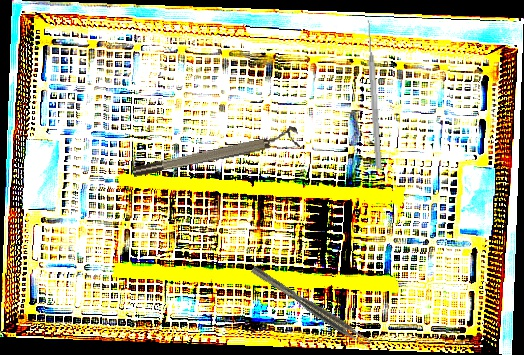Fixation Ring: (130, 125, 301, 180)
Pusher: (364, 19, 384, 170)
Tissue Forceps: (250, 262, 373, 350)
